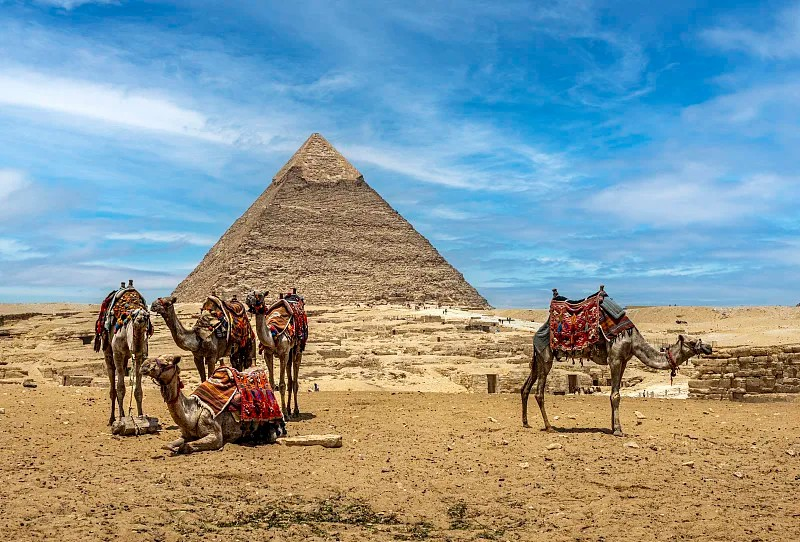Pyramid: (169, 133, 494, 310)
